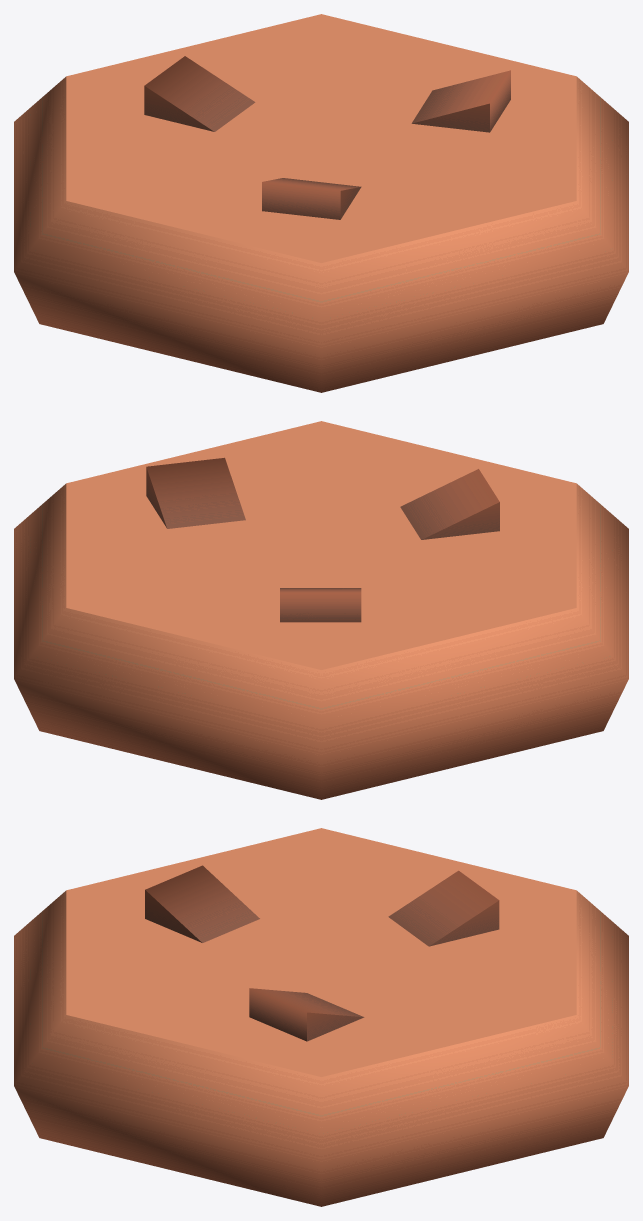
Rendered from food-cookie.glb.
The picture shows the model from 3 angles, top to bottom: view 1: azimuth 30°, elevation 25°; view 2: azimuth 150°, elevation 25°; view 3: azimuth 270°, elevation 25°; orthographic projection.
Visible parts, largest first — view 1: cookie; view 2: cookie; view 3: cookie.
Boxes of the visible parts, x1,y1,x2,y2 form: cookie: (14, 14, 628, 392); cookie: (14, 421, 628, 799); cookie: (14, 828, 628, 1206).
Bounding box in the file's own units: 0.2197 × 0.0498 × 0.1903.
1 material, 1 textured.
